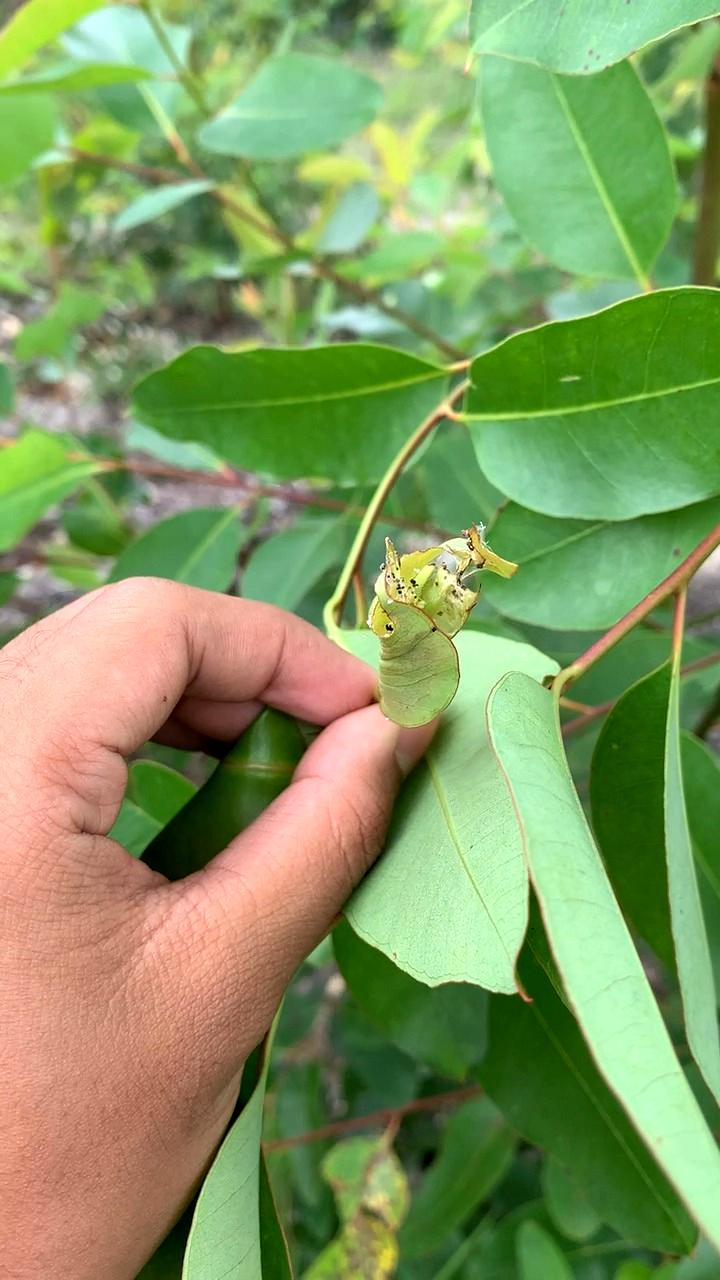Leaf Roller - Leaf: (366, 523, 515, 733)
